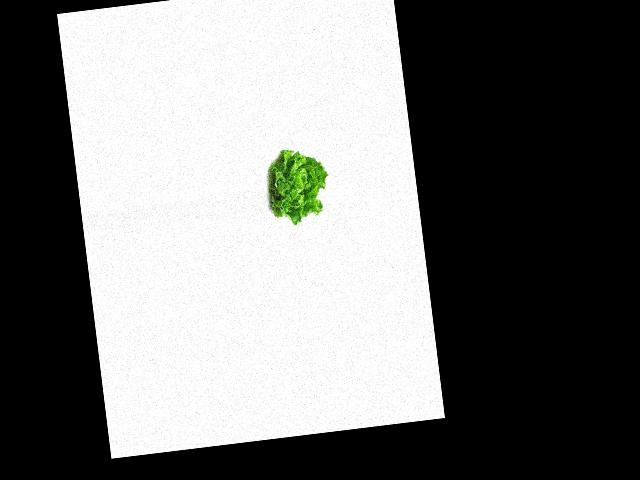lettuce: (262, 146, 332, 227)
